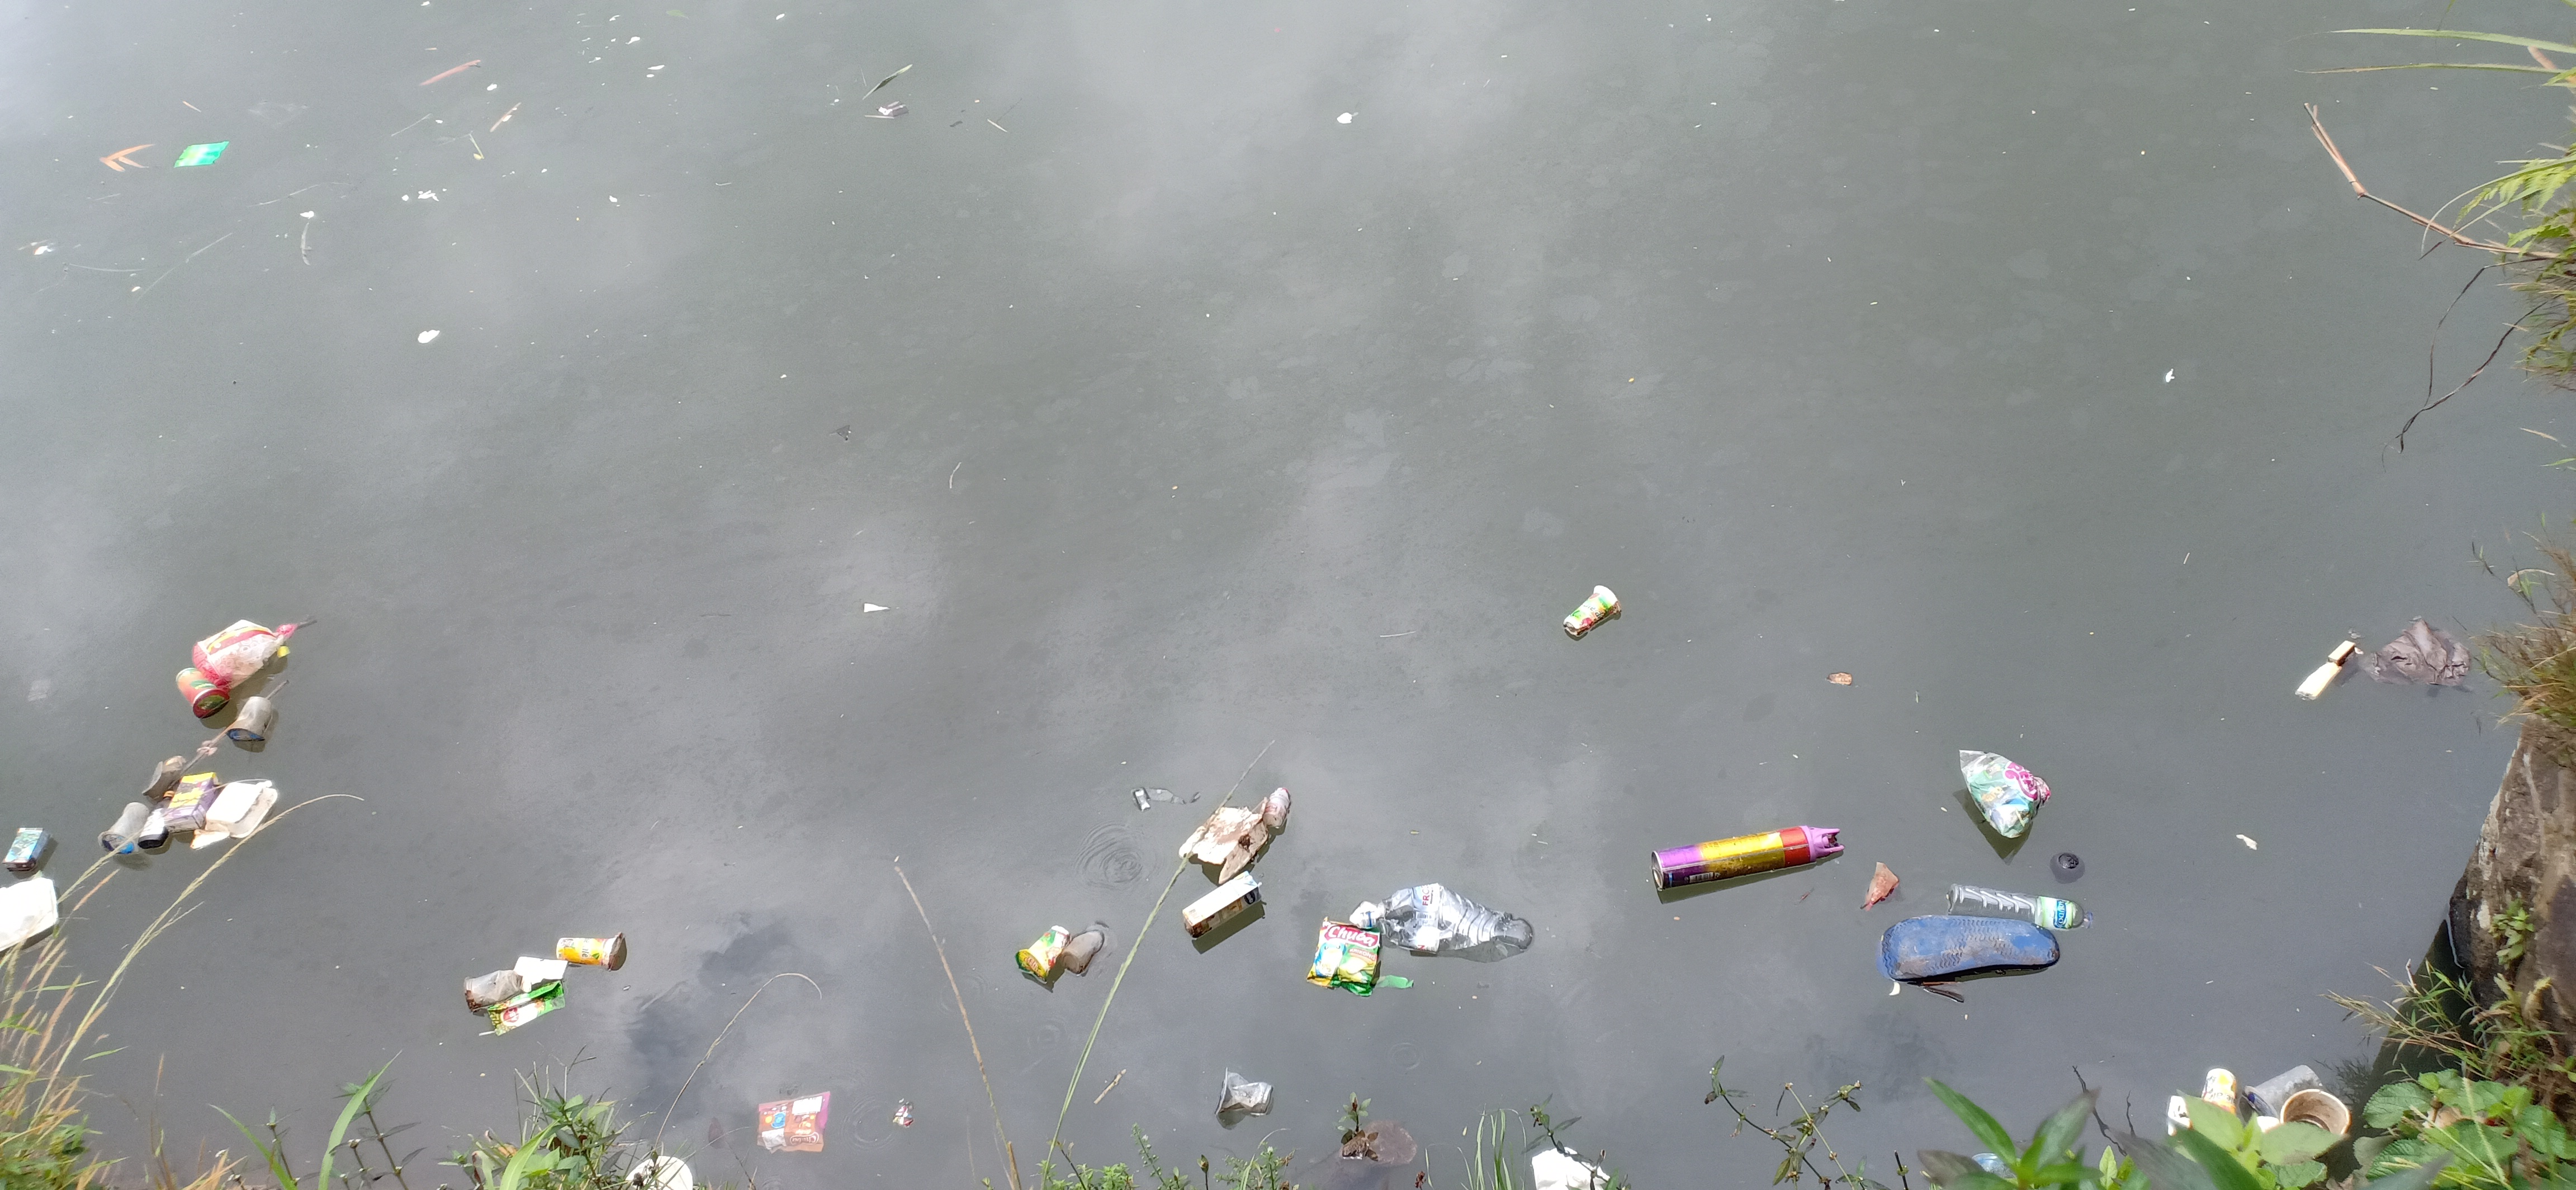Plastic Bottle: (1359, 883, 1533, 955), (1947, 884, 2095, 930), (136, 791, 174, 850), (1061, 929, 1104, 973), (2293, 661, 2341, 700), (2201, 1068, 2236, 1113), (1263, 787, 1290, 828)
